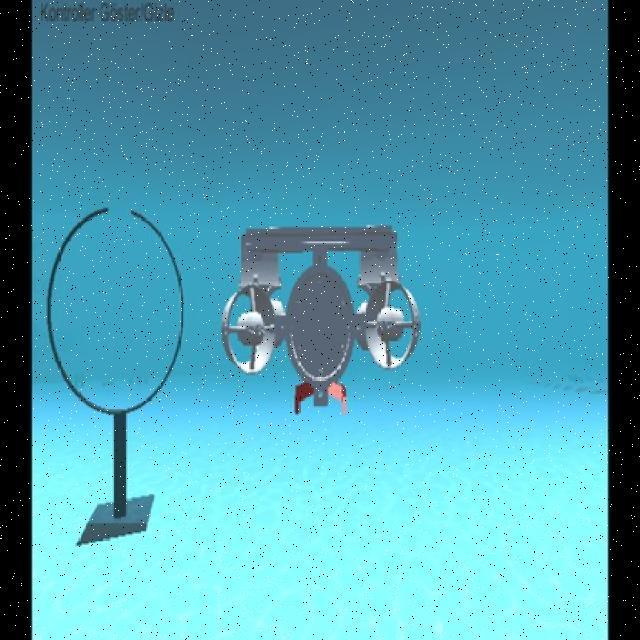Circle: (43, 200, 191, 420)
